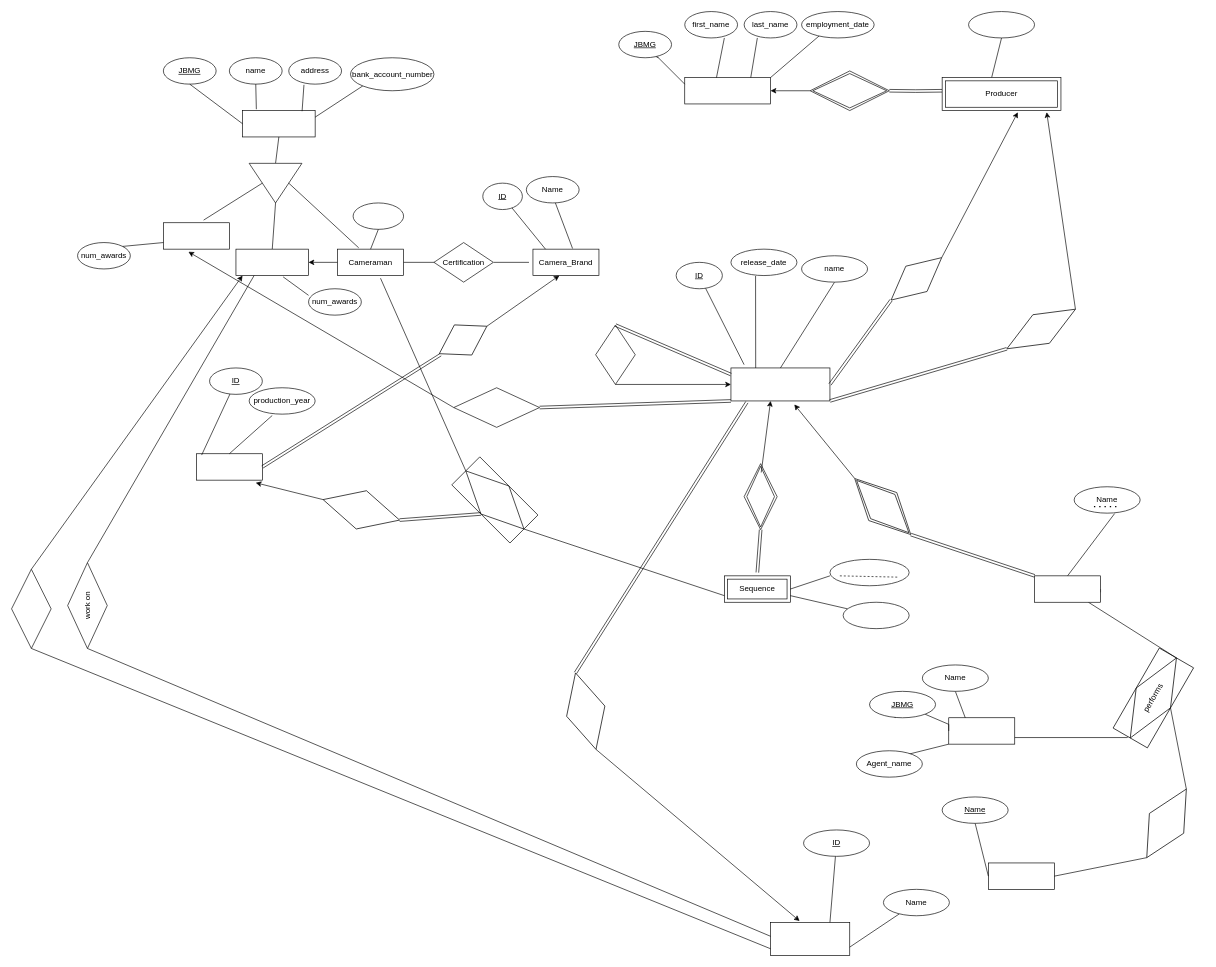
Image size: 1216x967. Some labels were removed from this diagram. The centre of each missing label's shape, as x and y in pixels:
"Actor" belongs at pixel 981 730.
"Award" belongs at pixel 1021 875.
"bonus" belongs at pixel 1001 24.
"Camera" belongs at pixel 229 466.
"Character" belongs at pixel 1067 588.
"Collaborator" belongs at pixel 278 123.
"Director" belongs at pixel 196 235.
"duration_minutes" belongs at pixel 875 615.
"Employee" belongs at pixel 727 90.
"Fee" belongs at pixel 378 215.
"Film" belongs at pixel 780 384.
"Screenwritter" belongs at pixel 272 262.
"Script" belongs at pixel 810 938.
"sequence_number" belongs at pixel 869 572.
"shoots" belongs at pixel 494 499.
"won aword" belongs at pixel 1166 823.
